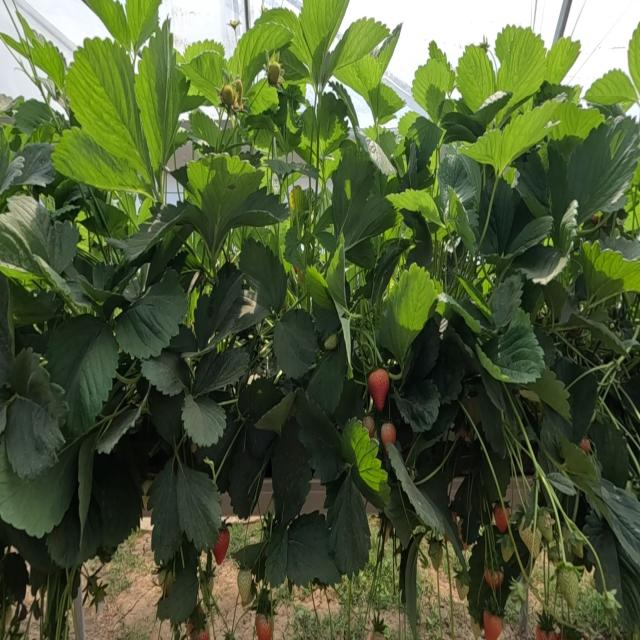Flowers: (228, 20, 239, 31)
Leaves: (67, 39, 152, 184), (46, 314, 118, 436), (186, 155, 263, 261), (4, 349, 66, 479), (135, 21, 187, 176), (567, 117, 639, 222), (1, 442, 77, 537), (466, 98, 562, 171), (114, 269, 187, 360), (0, 218, 74, 299), (52, 129, 145, 191), (381, 264, 436, 365), (512, 200, 577, 283), (389, 443, 446, 534), (91, 455, 141, 549), (484, 308, 546, 383), (326, 473, 370, 578), (299, 0, 349, 89), (295, 392, 343, 483), (45, 493, 104, 567), (341, 418, 389, 507), (255, 8, 312, 82), (272, 418, 311, 525), (229, 422, 272, 519), (229, 24, 291, 90), (286, 511, 340, 586), (177, 458, 221, 550), (241, 86, 302, 152), (496, 26, 546, 104), (116, 206, 185, 260), (195, 270, 242, 348), (332, 150, 375, 233), (149, 456, 182, 564), (0, 196, 49, 267), (600, 479, 639, 567), (412, 41, 454, 122), (326, 233, 351, 369), (240, 240, 287, 312), (215, 279, 269, 339), (34, 205, 79, 275), (553, 440, 601, 504), (334, 55, 383, 117), (274, 309, 318, 378), (307, 344, 347, 415), (584, 510, 619, 588), (194, 345, 248, 395), (344, 195, 396, 246), (157, 561, 199, 624), (336, 18, 388, 68), (593, 237, 640, 292), (456, 46, 495, 112), (589, 420, 627, 486), (181, 53, 225, 107), (229, 188, 288, 228), (393, 380, 439, 431), (182, 393, 226, 446), (485, 180, 515, 255), (350, 126, 395, 175), (85, 1, 130, 49), (141, 351, 190, 395), (437, 153, 480, 203), (432, 337, 464, 403), (96, 408, 140, 453), (239, 378, 283, 422), (586, 69, 638, 106), (387, 189, 441, 224), (553, 101, 604, 138), (150, 390, 184, 444), (77, 436, 96, 527), (126, 0, 160, 50), (490, 276, 523, 327), (31, 41, 66, 89), (16, 144, 55, 187), (371, 24, 403, 76), (544, 37, 579, 83), (366, 83, 404, 124), (1, 275, 14, 387), (266, 525, 289, 587), (13, 99, 52, 135), (318, 92, 347, 139), (190, 111, 223, 149), (244, 78, 278, 114), (304, 267, 332, 308), (313, 298, 340, 340), (266, 158, 318, 179), (78, 276, 112, 306), (284, 227, 302, 267), (547, 472, 577, 495), (302, 106, 318, 149), (92, 263, 116, 290), (253, 128, 273, 152), (290, 186, 304, 212)
Strawberries: (557, 565, 579, 609), (367, 369, 389, 410), (85, 573, 107, 609), (520, 525, 540, 559), (238, 570, 254, 606), (213, 529, 229, 563), (428, 537, 443, 571), (537, 511, 554, 541), (484, 611, 502, 639), (219, 84, 239, 107), (255, 614, 272, 639), (493, 506, 507, 533), (159, 571, 174, 596), (266, 63, 279, 86), (381, 423, 395, 444), (580, 438, 590, 453)
